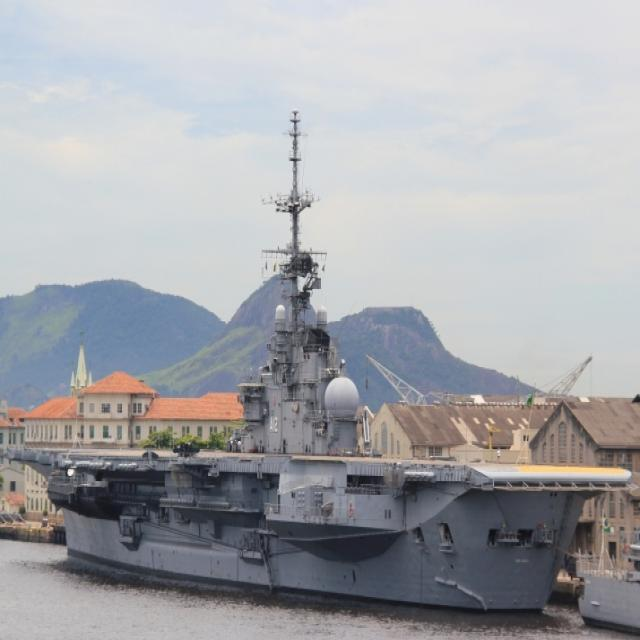Portanaves: (2, 102, 640, 618)
